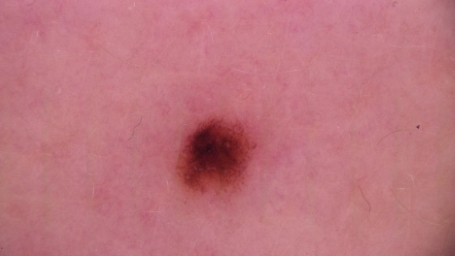nevus: (173, 114, 258, 198)
